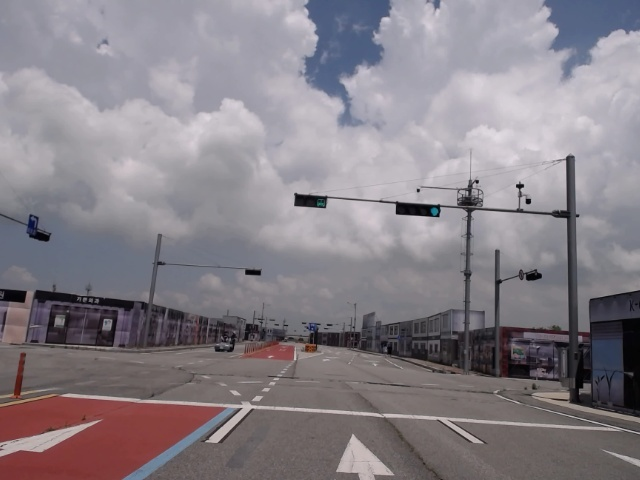straight_green_4: (397, 202, 440, 217)
